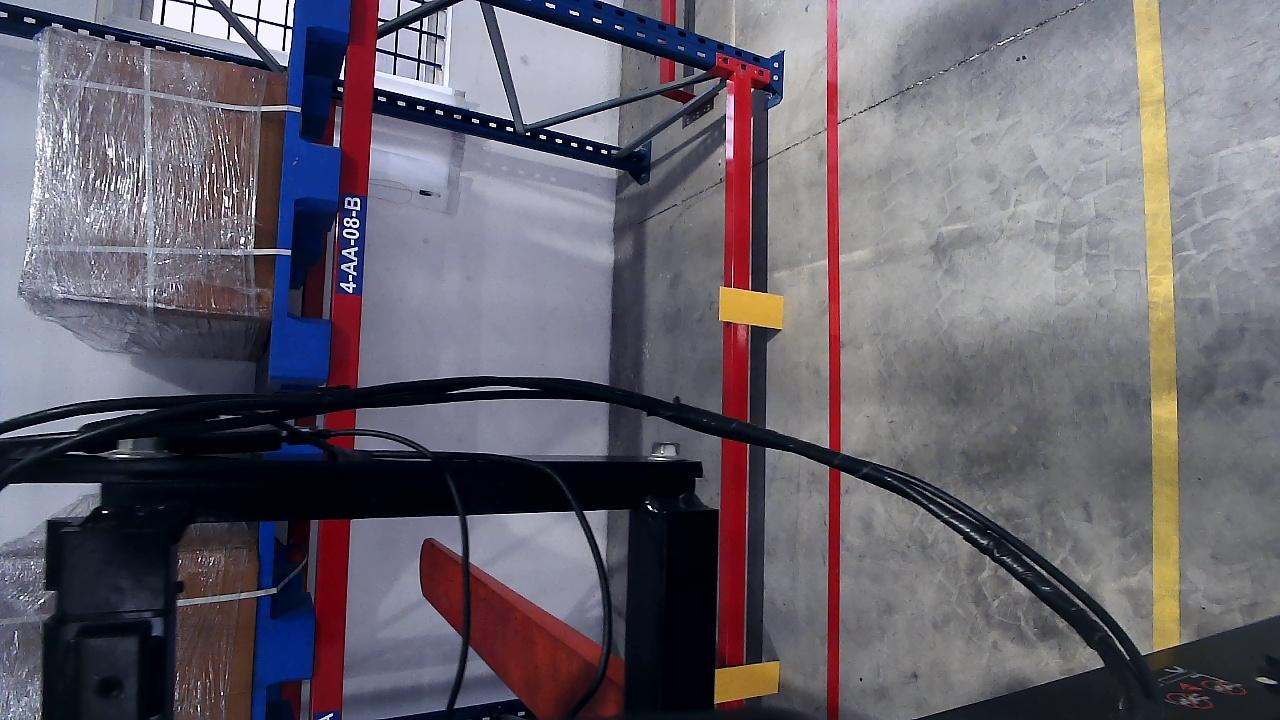h_rack: (324, 0, 382, 382), (728, 74, 758, 718), (310, 431, 359, 719)
orange_strip: (718, 287, 784, 329), (713, 661, 780, 702)
red_line: (822, 4, 844, 720)
small_pallet: (269, 1, 353, 378)
yellow_line: (1135, 0, 1182, 597)
